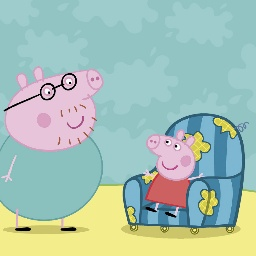Peppa: (141, 128, 206, 219)
